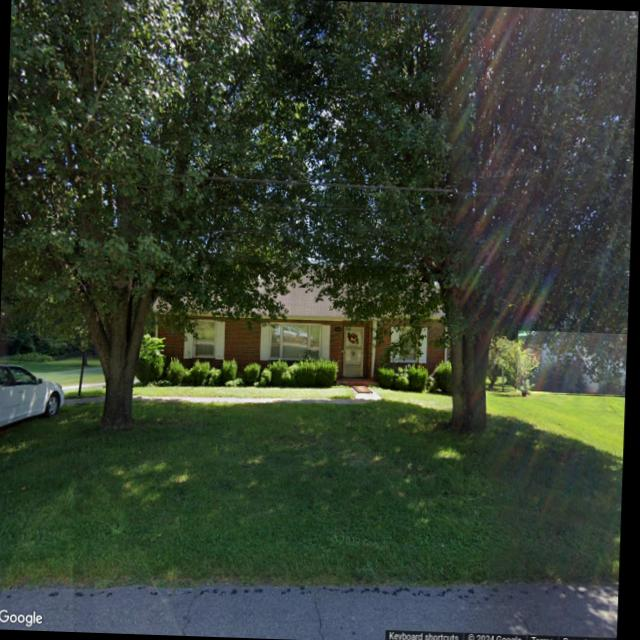House: (149, 258, 450, 392), (516, 331, 626, 396)
